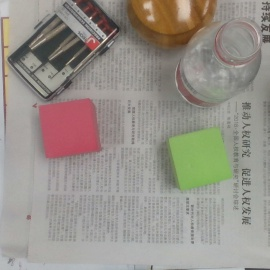bottle: (172, 18, 261, 108)
chess: (126, 1, 218, 46)
